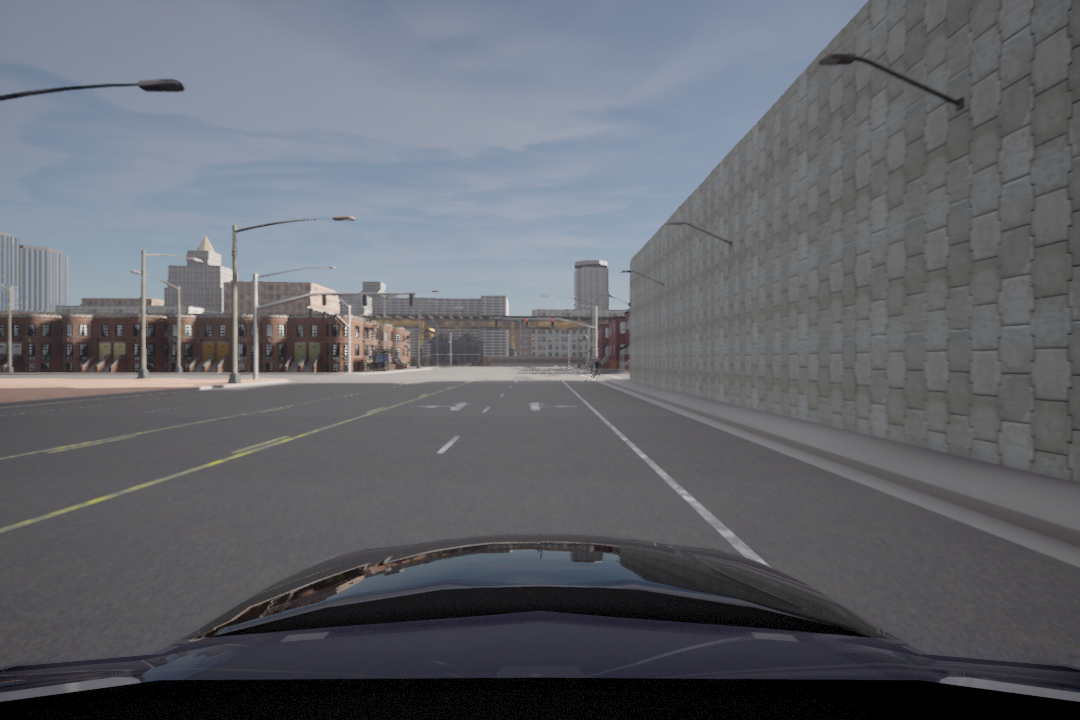RoadSign_forward_left: (415, 397, 474, 412)
RoadSign_forward_right: (523, 394, 576, 416)
